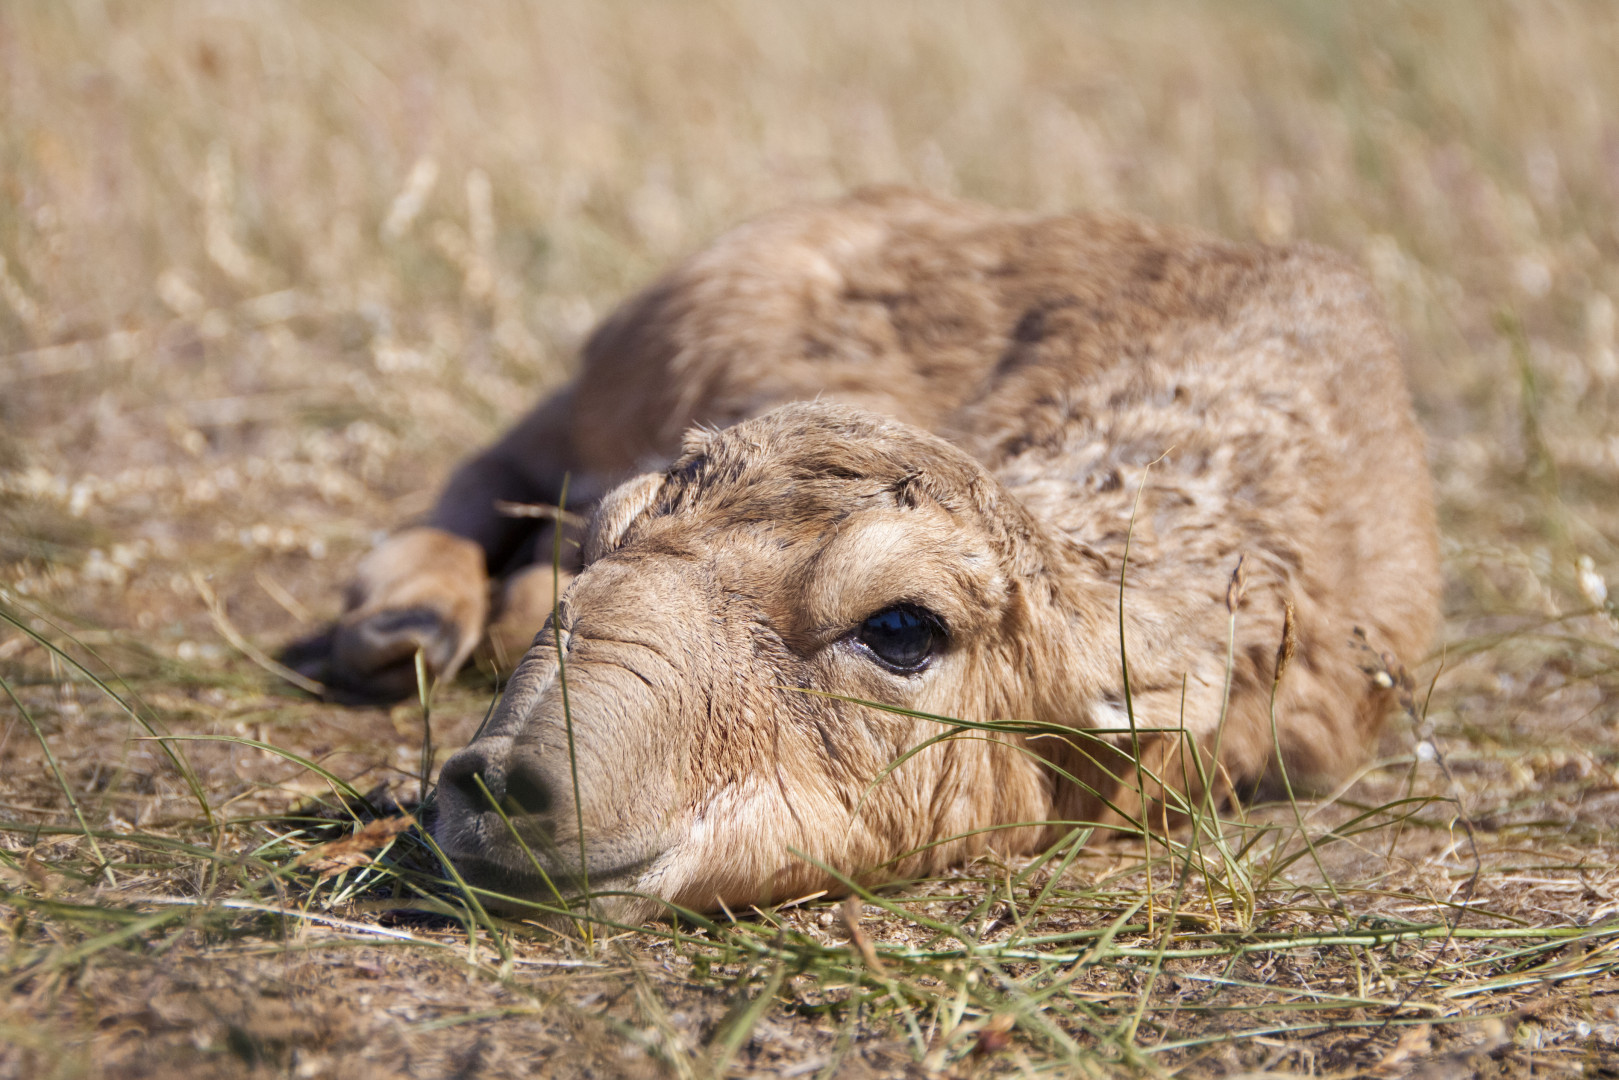saiga: (327, 175, 1449, 900)
